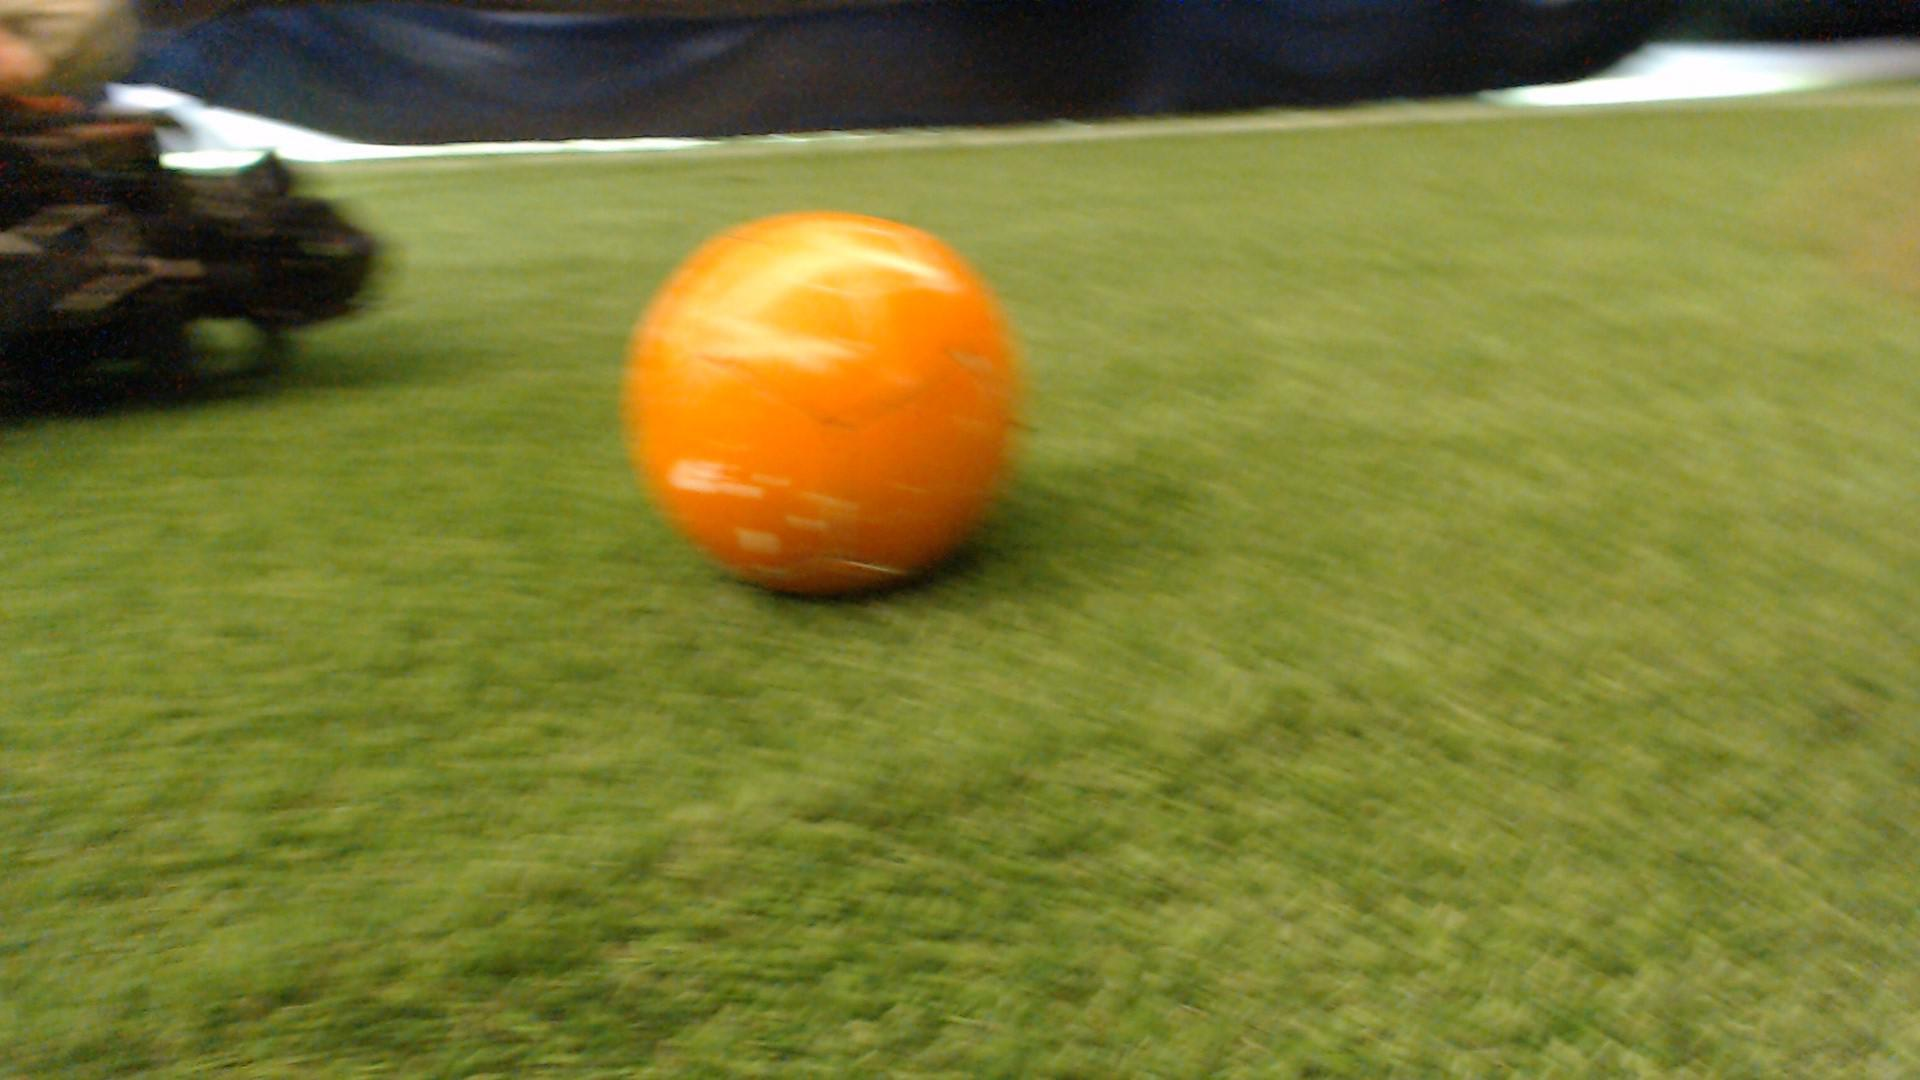bola: (603, 178, 1044, 620)
